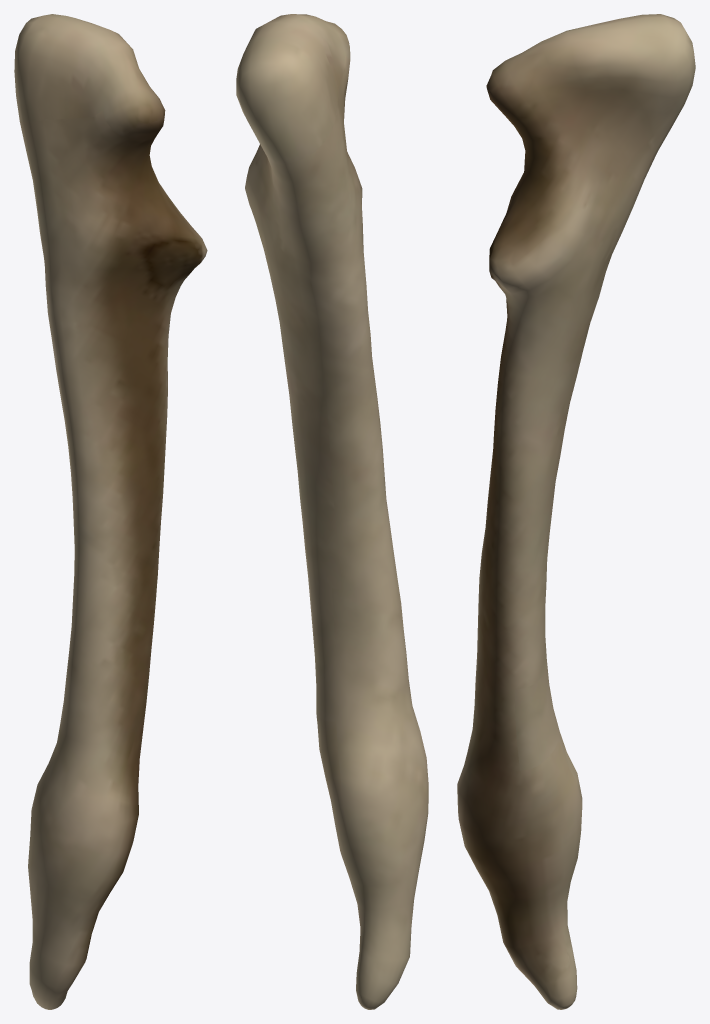
The model's file is Ulna.glb.
3 views of the same model, side by side, from view 1: azimuth 30°, elevation 25°; view 2: azimuth 150°, elevation 25°; view 3: azimuth 270°, elevation 25° (orthographic). The views are drawn at different scales.
Visible parts, largest first — view 1: polySurface5; view 2: polySurface5; view 3: polySurface5.
Boxes of the visible parts, box(x1,y1,x2,y2) form: polySurface5: box(14, 14, 207, 1009); polySurface5: box(236, 14, 428, 1009); polySurface5: box(457, 14, 695, 1009).
Size of the model in its own units: 23.9 by 135 by 28.65.
1 material, 1 textured.
